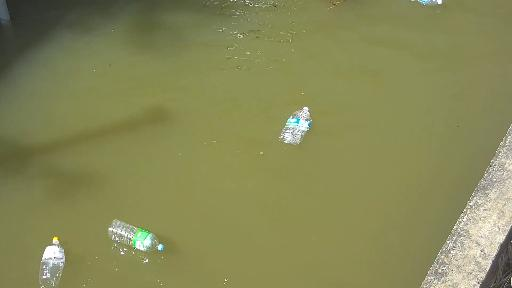plastic: (22, 233, 72, 288), (102, 218, 166, 258), (272, 98, 321, 150), (406, 0, 449, 18)
